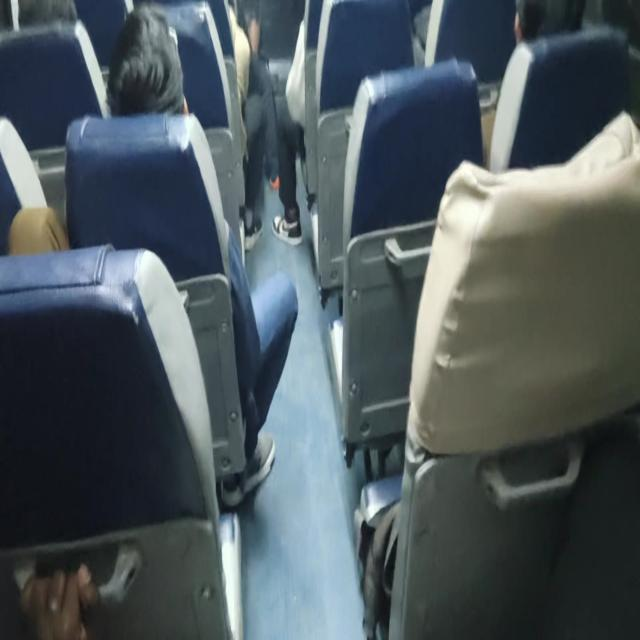person: (8, 4, 298, 505), (227, 1, 303, 250), (16, 556, 101, 638)
